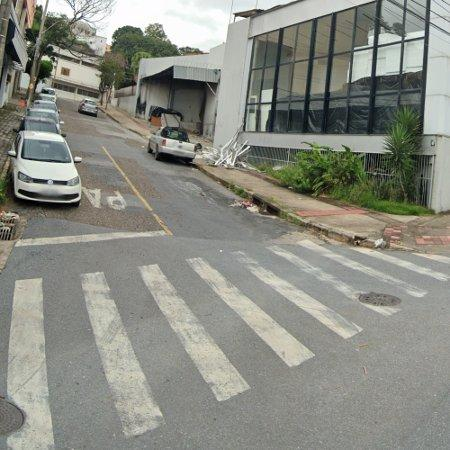crosswalks: (0, 241, 450, 450)
